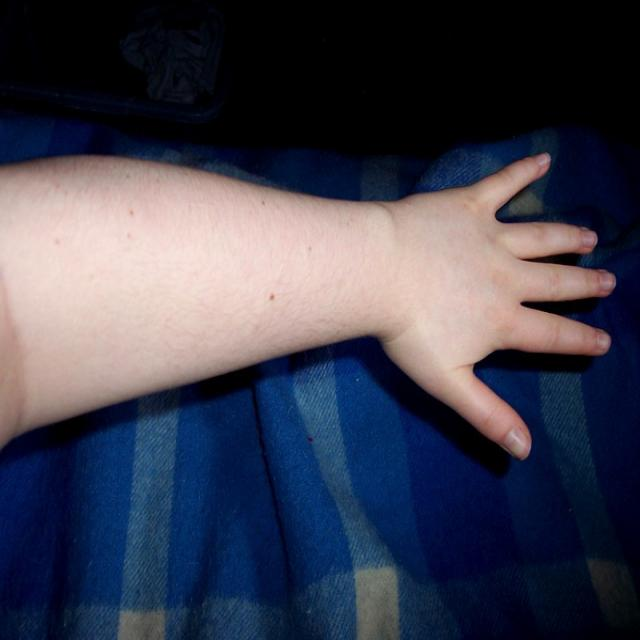bare_hand: (370, 151, 616, 461)
